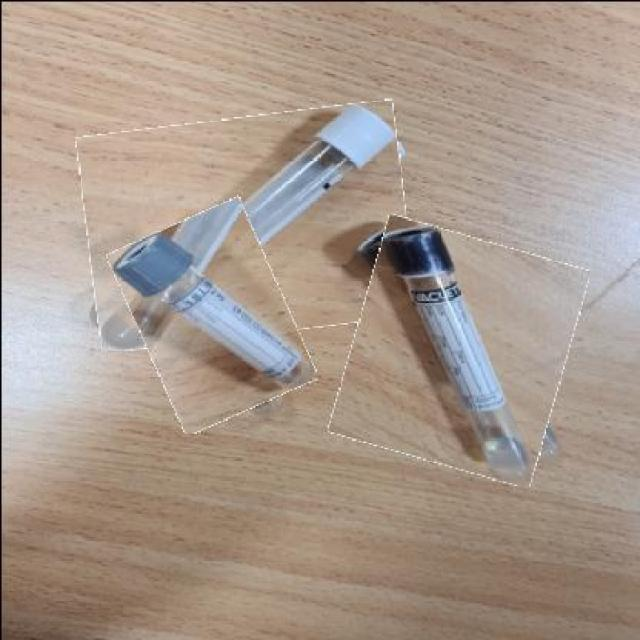Experimental-tube: (81, 106, 410, 342), (339, 224, 576, 476), (122, 204, 300, 424)
